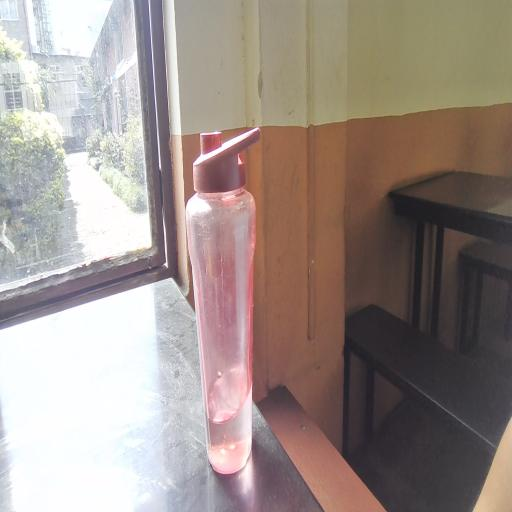Bottle: (195, 119, 262, 484)
